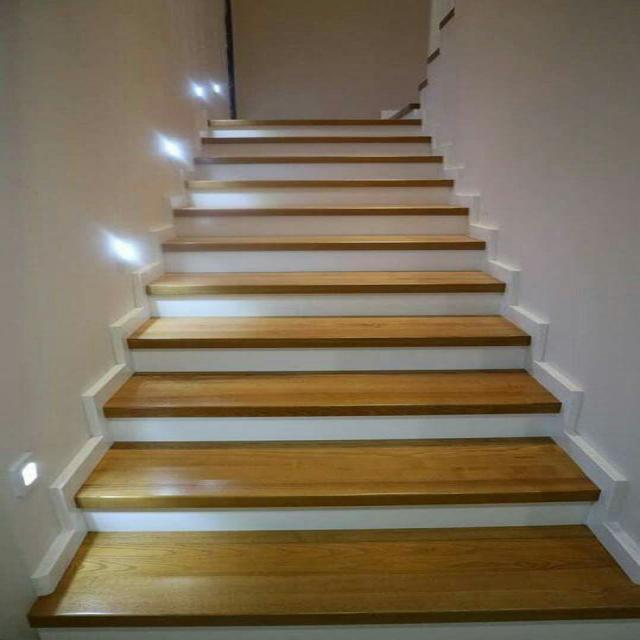stairs: (26, 108, 637, 630)
